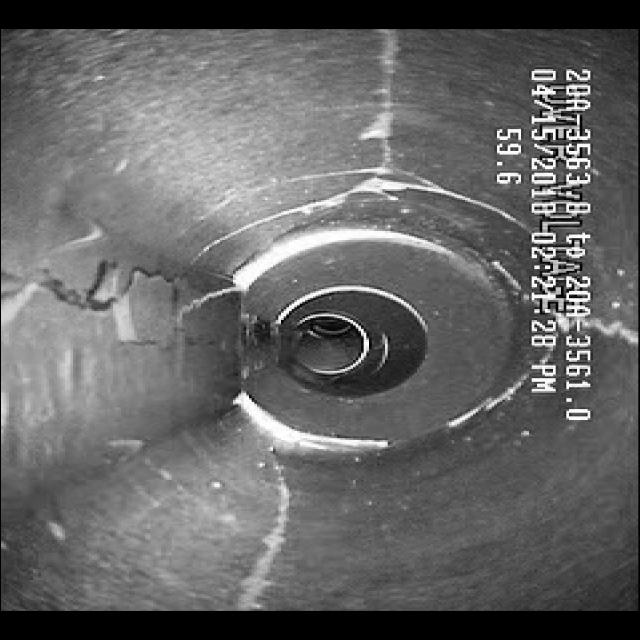Fracture: (12, 228, 260, 343)
